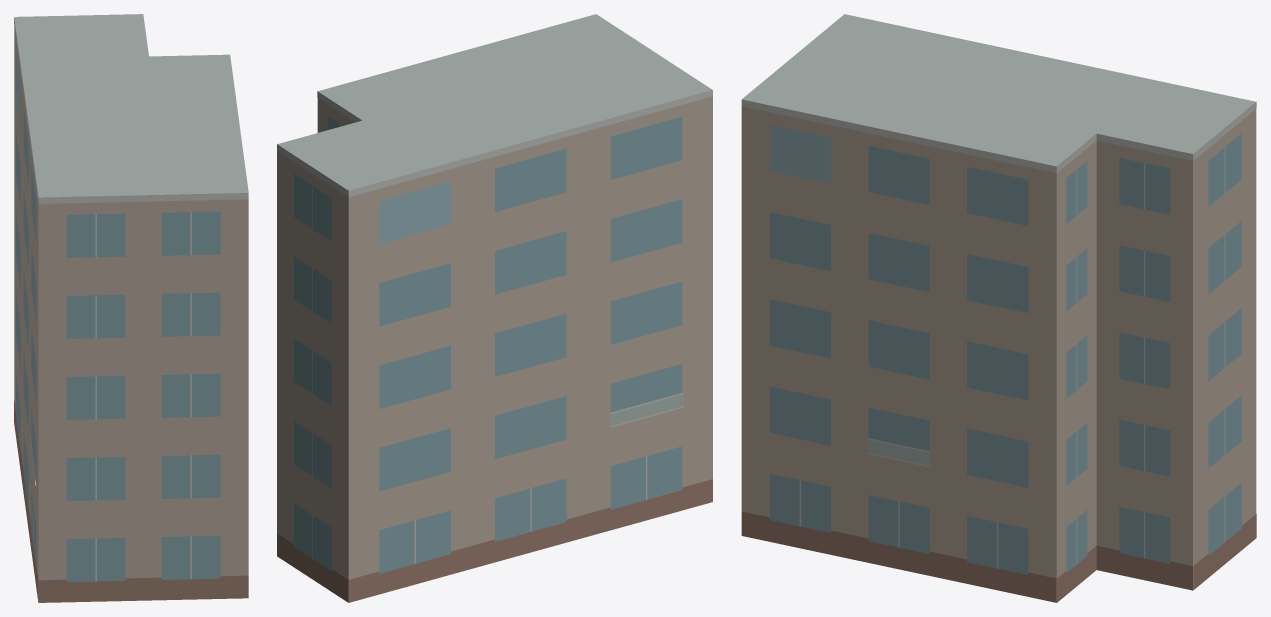
The model's file is survey-upis-32823941.glb.
The picture shows the model from 3 angles, left to right: view 1: azimuth 30°, elevation 25°; view 2: azimuth 150°, elevation 25°; view 3: azimuth 270°, elevation 25°; orthographic projection. The views are drawn at different scales.
Visible parts, largest first — view 1: survey-upis-32823941.tmp; view 2: survey-upis-32823941.tmp; view 3: survey-upis-32823941.tmp.
Boxes of the visible parts, x1,y1,x2,y2 form: survey-upis-32823941.tmp: [14, 14, 248, 602]; survey-upis-32823941.tmp: [277, 14, 712, 602]; survey-upis-32823941.tmp: [741, 14, 1256, 602].
Bounding box in the file's own units: 11.62 × 15.5 × 16.58.
